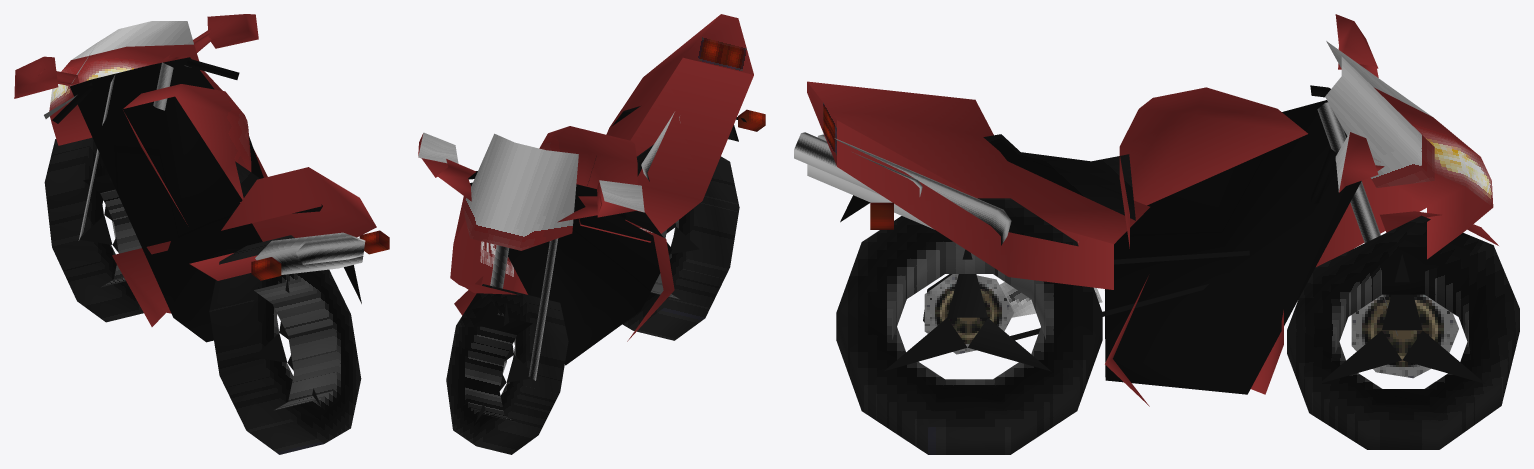
File: ps2_save-icons_ridingspirits2.glb
3 renders of one model, left to right at view 1: azimuth 30°, elevation 25°; view 2: azimuth 150°, elevation 25°; view 3: azimuth 270°, elevation 25°, orthographic. The views are drawn at different scales.
Visible parts, largest first — view 1: rs.ico; view 2: rs.ico; view 3: rs.ico.
Part boxes in pixels (x1=…): rs.ico: x1=14, y1=14, x2=389, y2=454; rs.ico: x1=418, y1=14, x2=765, y2=454; rs.ico: x1=794, y1=14, x2=1519, y2=454.
Bounding box in the file's own units: 2.19 × 2.59 × 4.53.
1 material, 1 textured.
